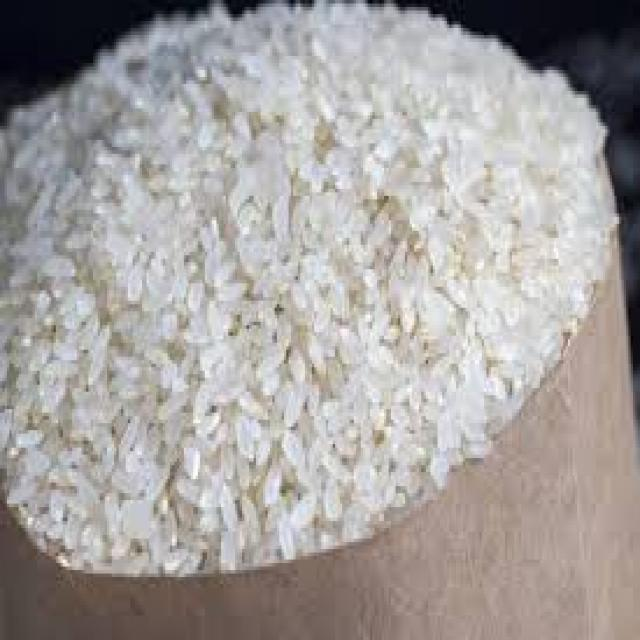White Rice: (0, 0, 596, 547)
